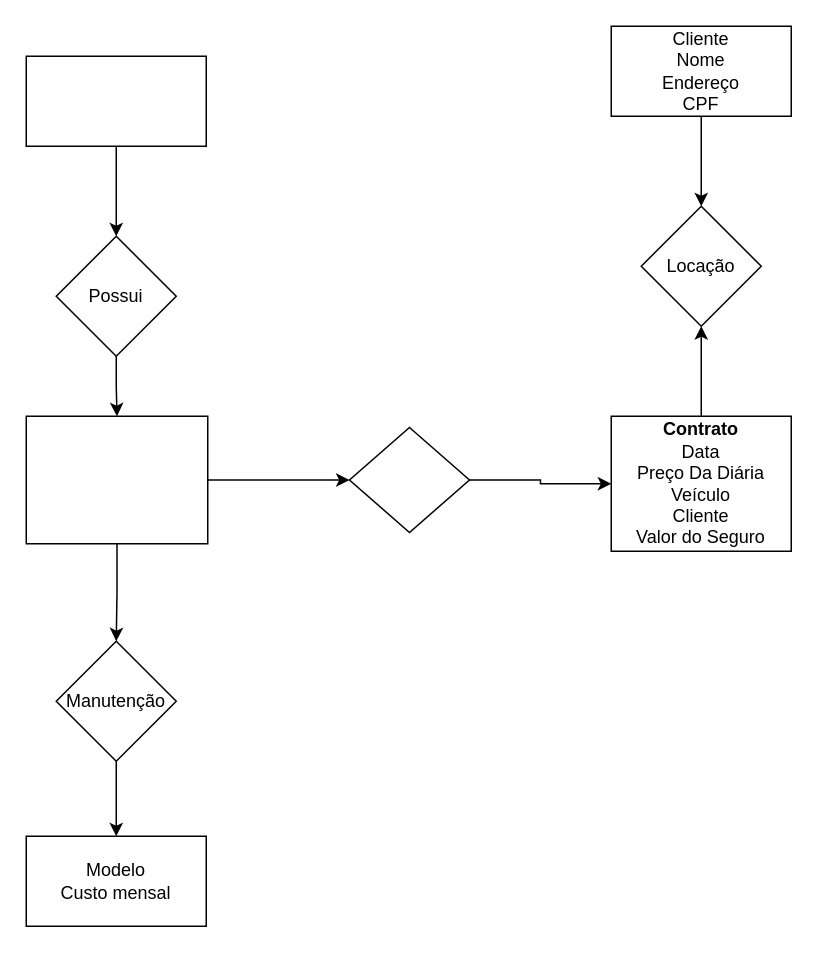
Some shapes in this 818 by 953 pixel diagram are drawn without their labels. The centre of each missing label's shape, as x and y in pixels:
"Aluga" goes at point (409, 479).
"Automóvel Marca Modelo Descrição Cor Placa" goes at point (116, 479).
"Locador" goes at point (115, 100).
